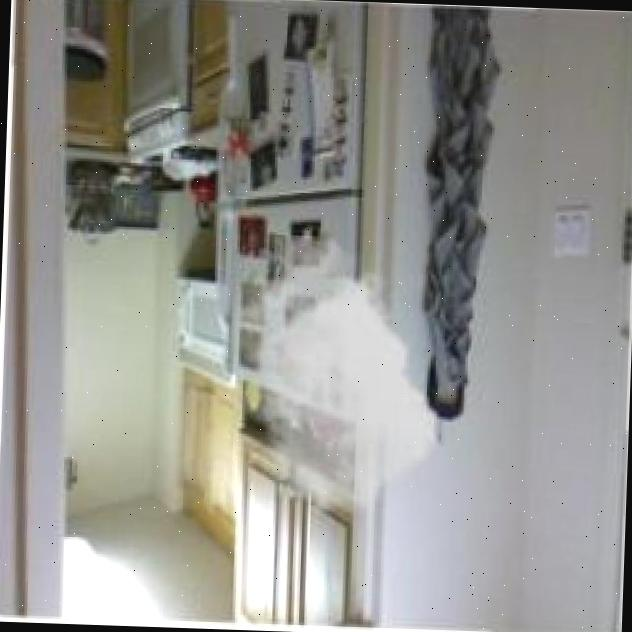smoke: (224, 232, 443, 517)
